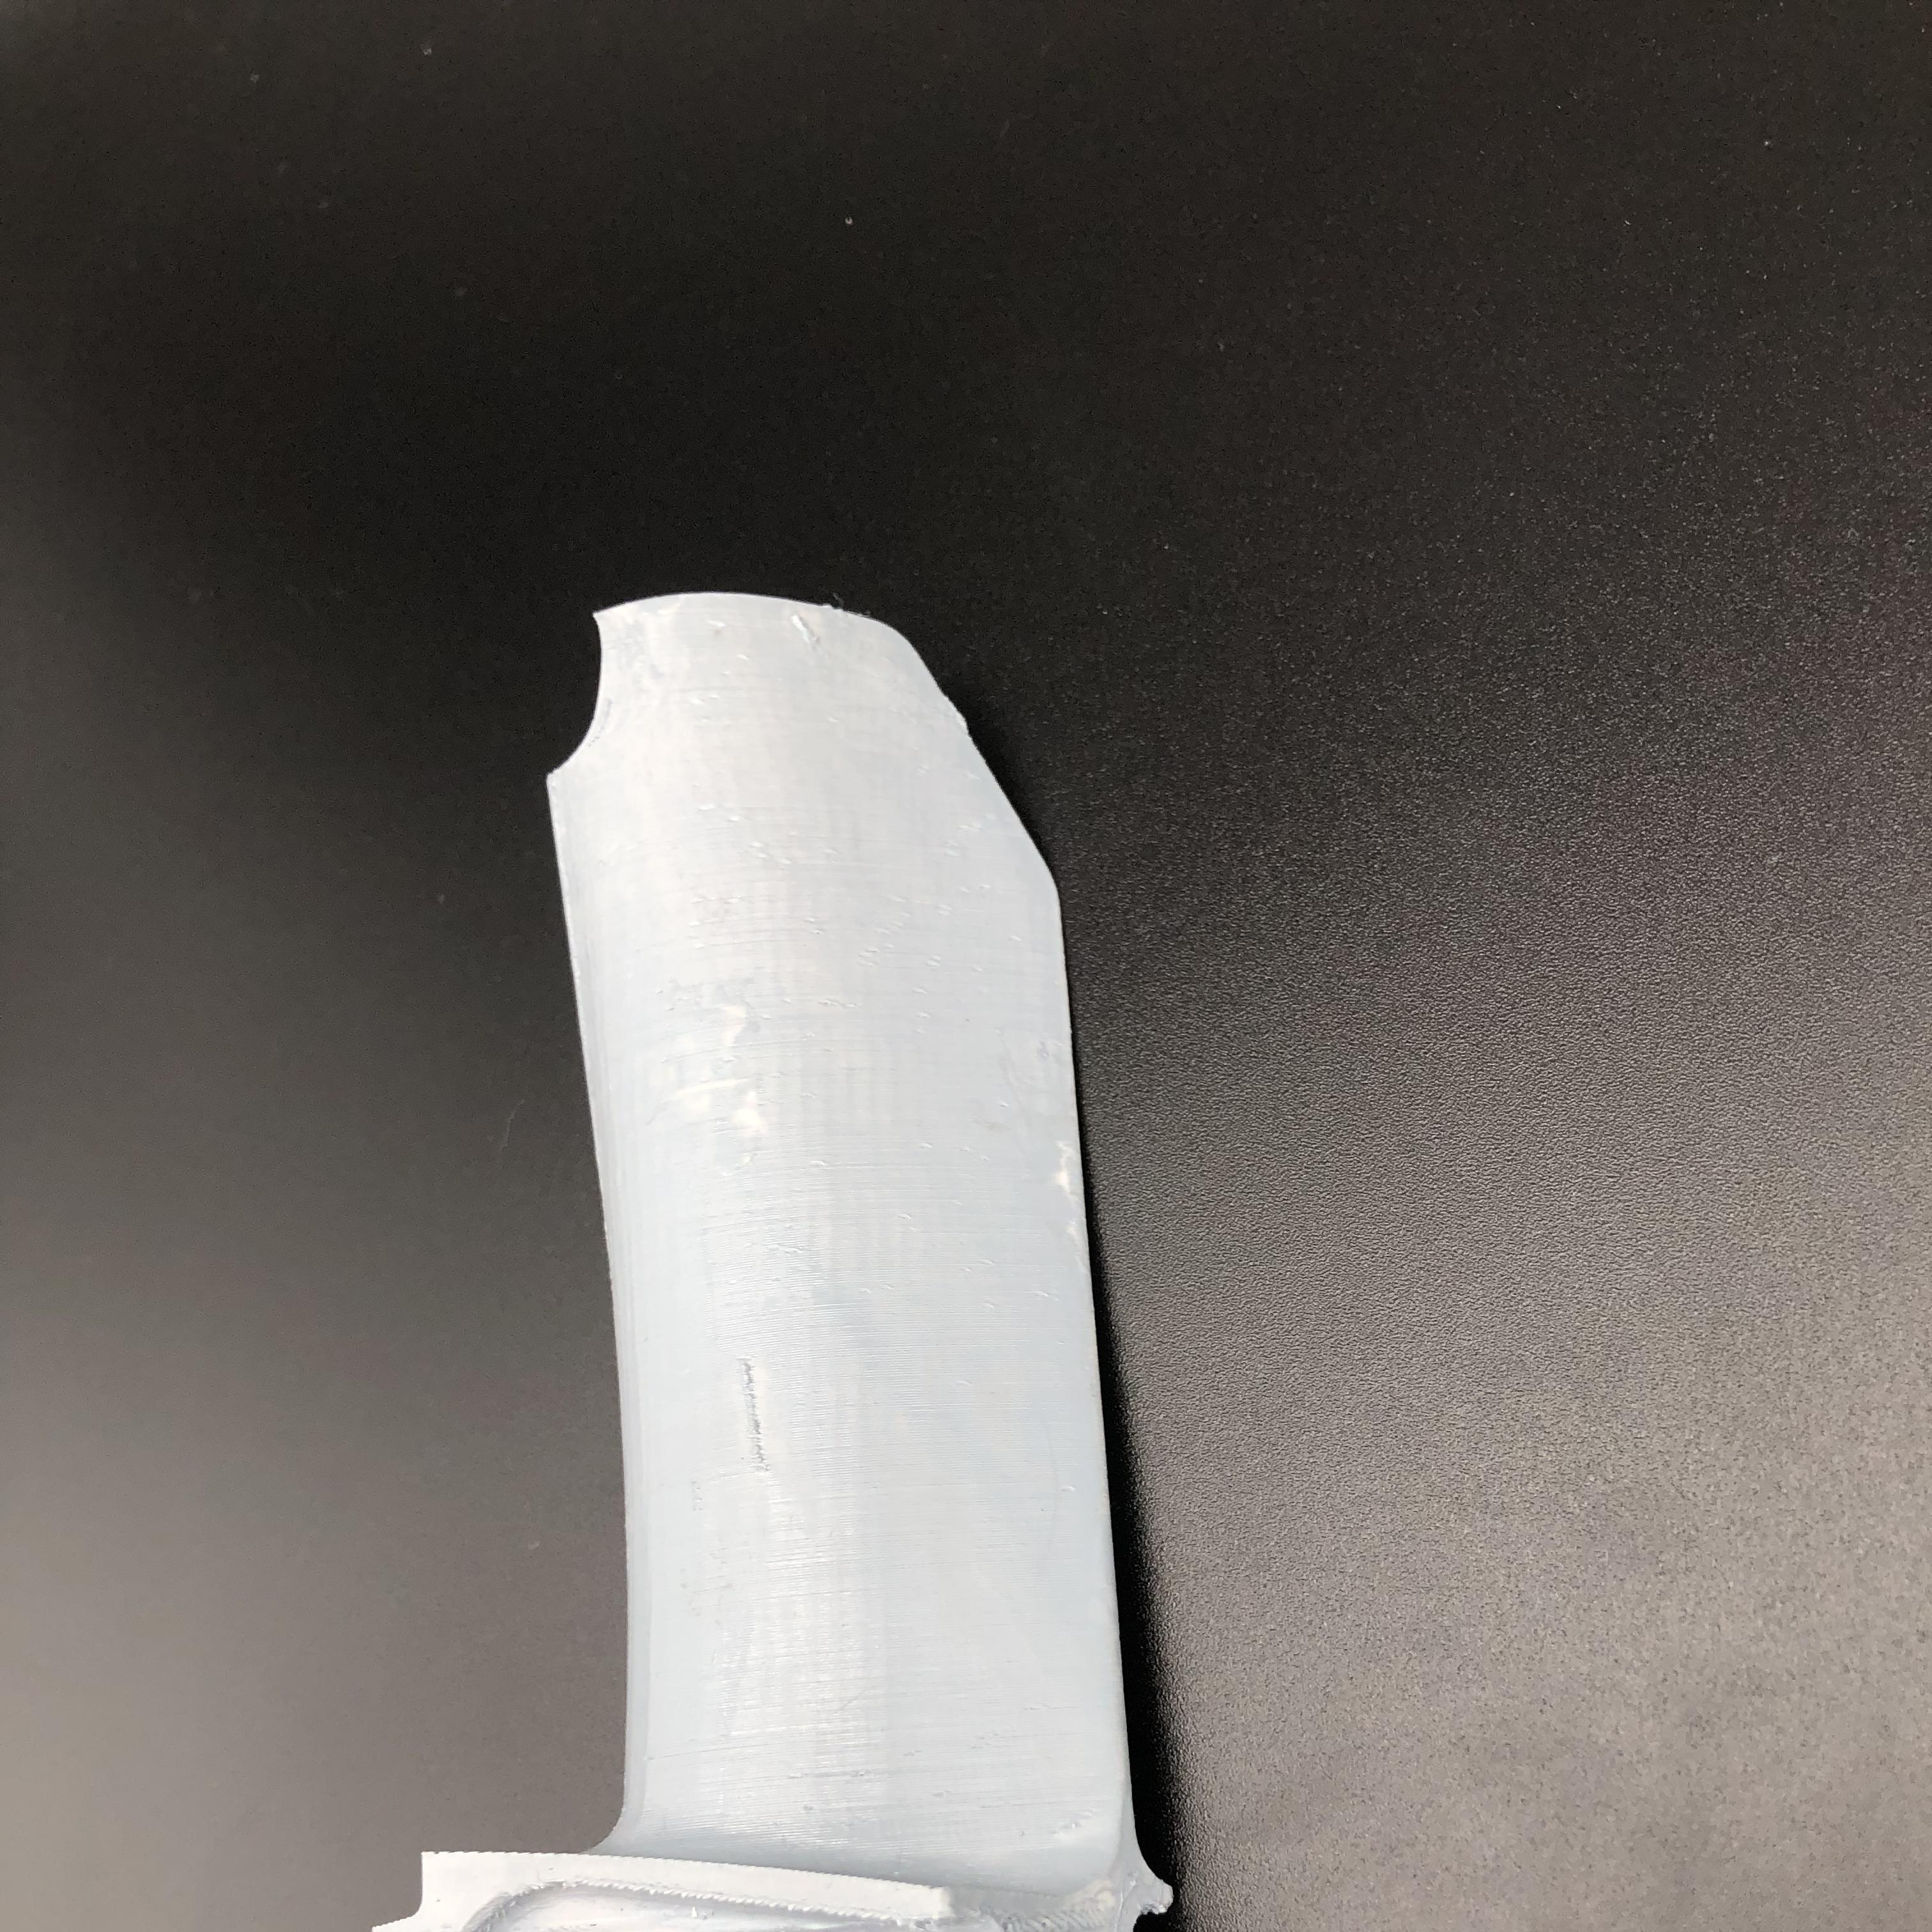fracture: (543, 600, 648, 778)
